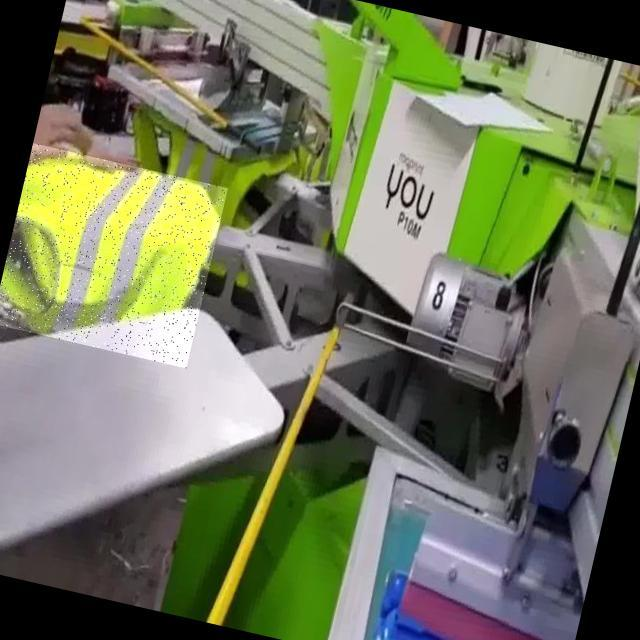Safety Vest: (0, 143, 227, 368)
